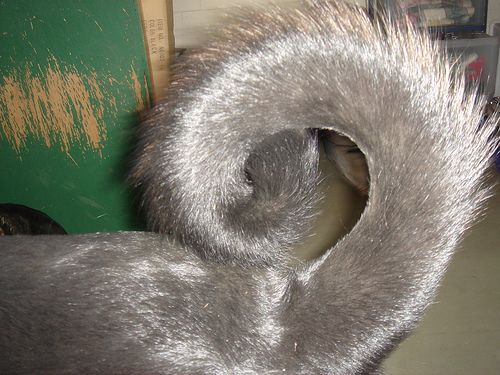tail: (125, 1, 498, 374)
